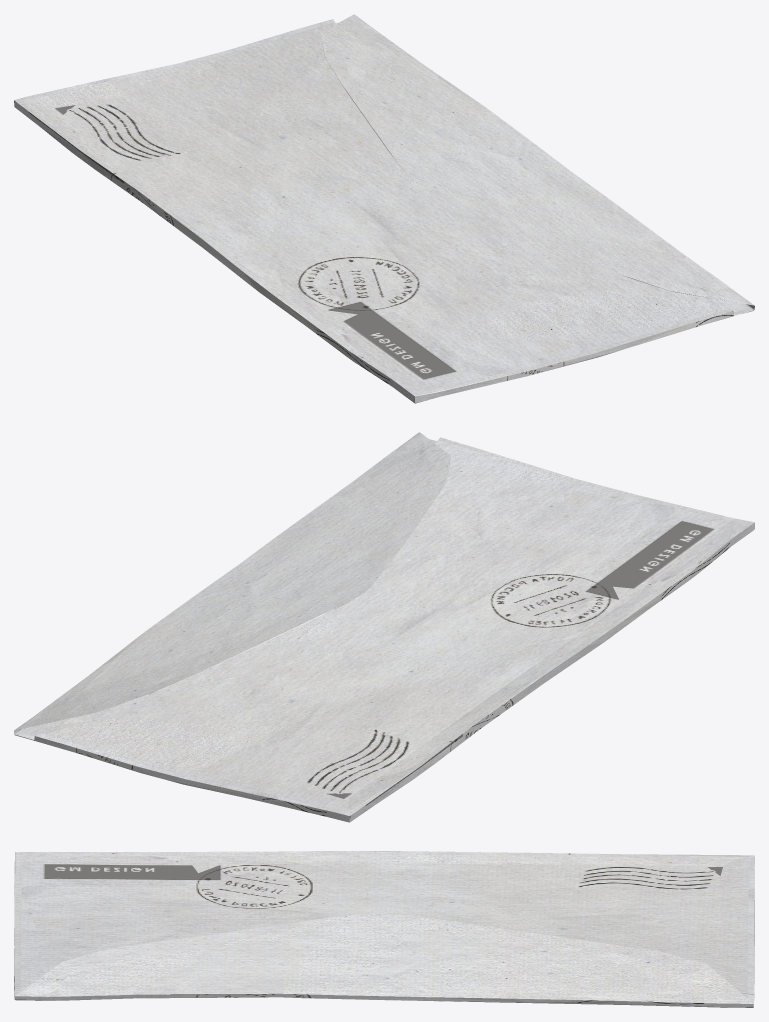
Rendered from SM_Note_1.fbx.
3 views of the same model, one above another, from view 1: azimuth 30°, elevation 25°; view 2: azimuth 150°, elevation 25°; view 3: azimuth 270°, elevation 25° (orthographic). The views are drawn at different scales.
Visible parts, largest first — view 1: SM_Note_1; view 2: SM_Note_1; view 3: SM_Note_1.
Part boxes in pixels (box(x1,y1,x2,y2)): SM_Note_1: box(14, 14, 754, 403); SM_Note_1: box(14, 432, 754, 822); SM_Note_1: box(14, 851, 754, 1007).
Size of the model in its own units: 0.0963 by 0.0112 by 0.1954.
1 material, 1 textured.
